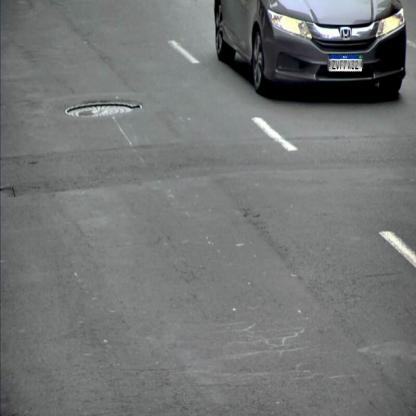PlacaM: (328, 54, 362, 72)
